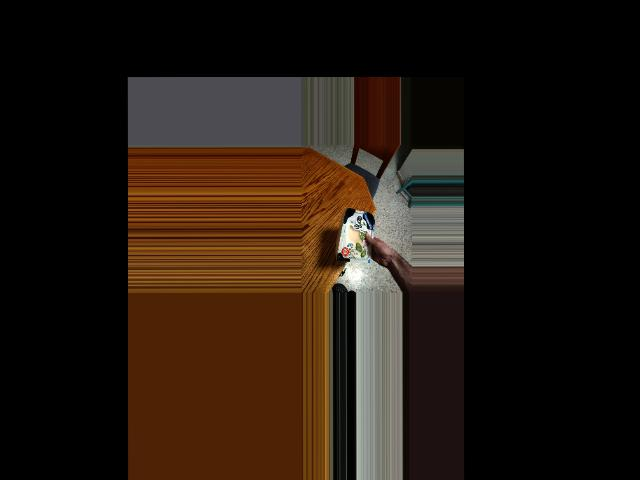cheese: (333, 208, 384, 266)
